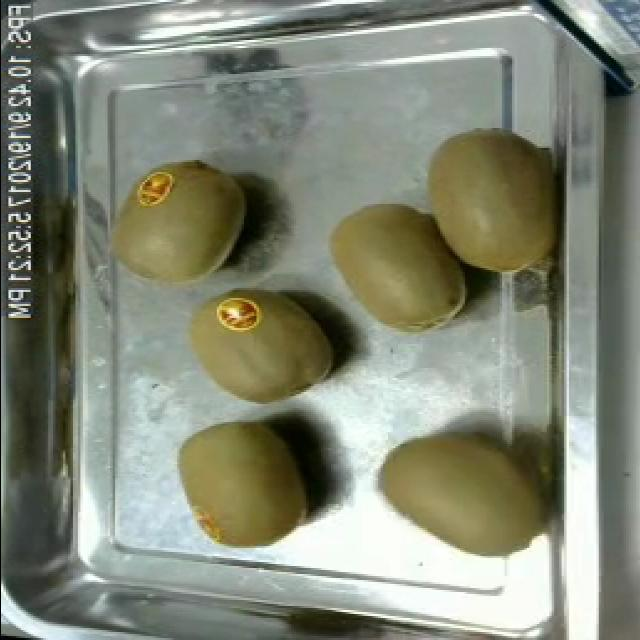Fruit: (372, 420, 548, 570), (166, 412, 322, 562), (416, 120, 558, 284), (317, 196, 473, 344), (174, 286, 342, 414), (107, 158, 253, 302)
